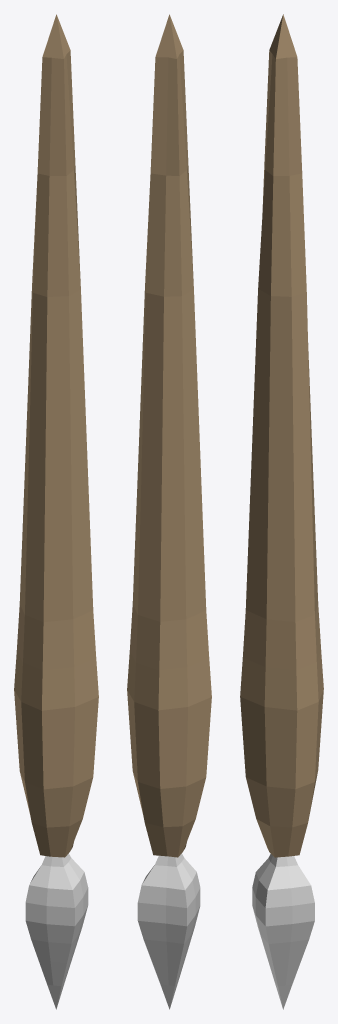
Rendered from paintbrush.fbx.
3 renders of one model, left to right at view 1: azimuth 30°, elevation 25°; view 2: azimuth 210°, elevation 25°; view 3: azimuth 330°, elevation 25°, orthographic.
Parts seen in each view (by area): view 1: Cube.001; view 2: Cube.001; view 3: Cube.001.
Part boxes in pixels (x1,y1,x2,y2): Cube.001: [14, 14, 98, 1009]; Cube.001: [127, 14, 211, 1009]; Cube.001: [240, 14, 323, 1009].
Size of the model in its own units: 29.73 by 401 by 27.24.
